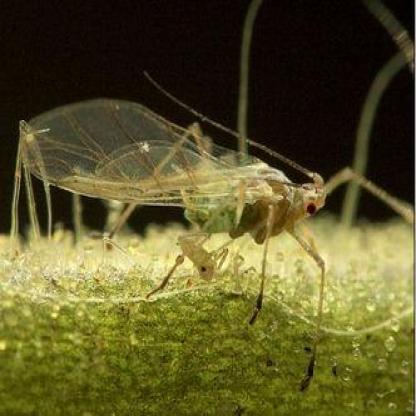aphid: (6, 68, 416, 387)
